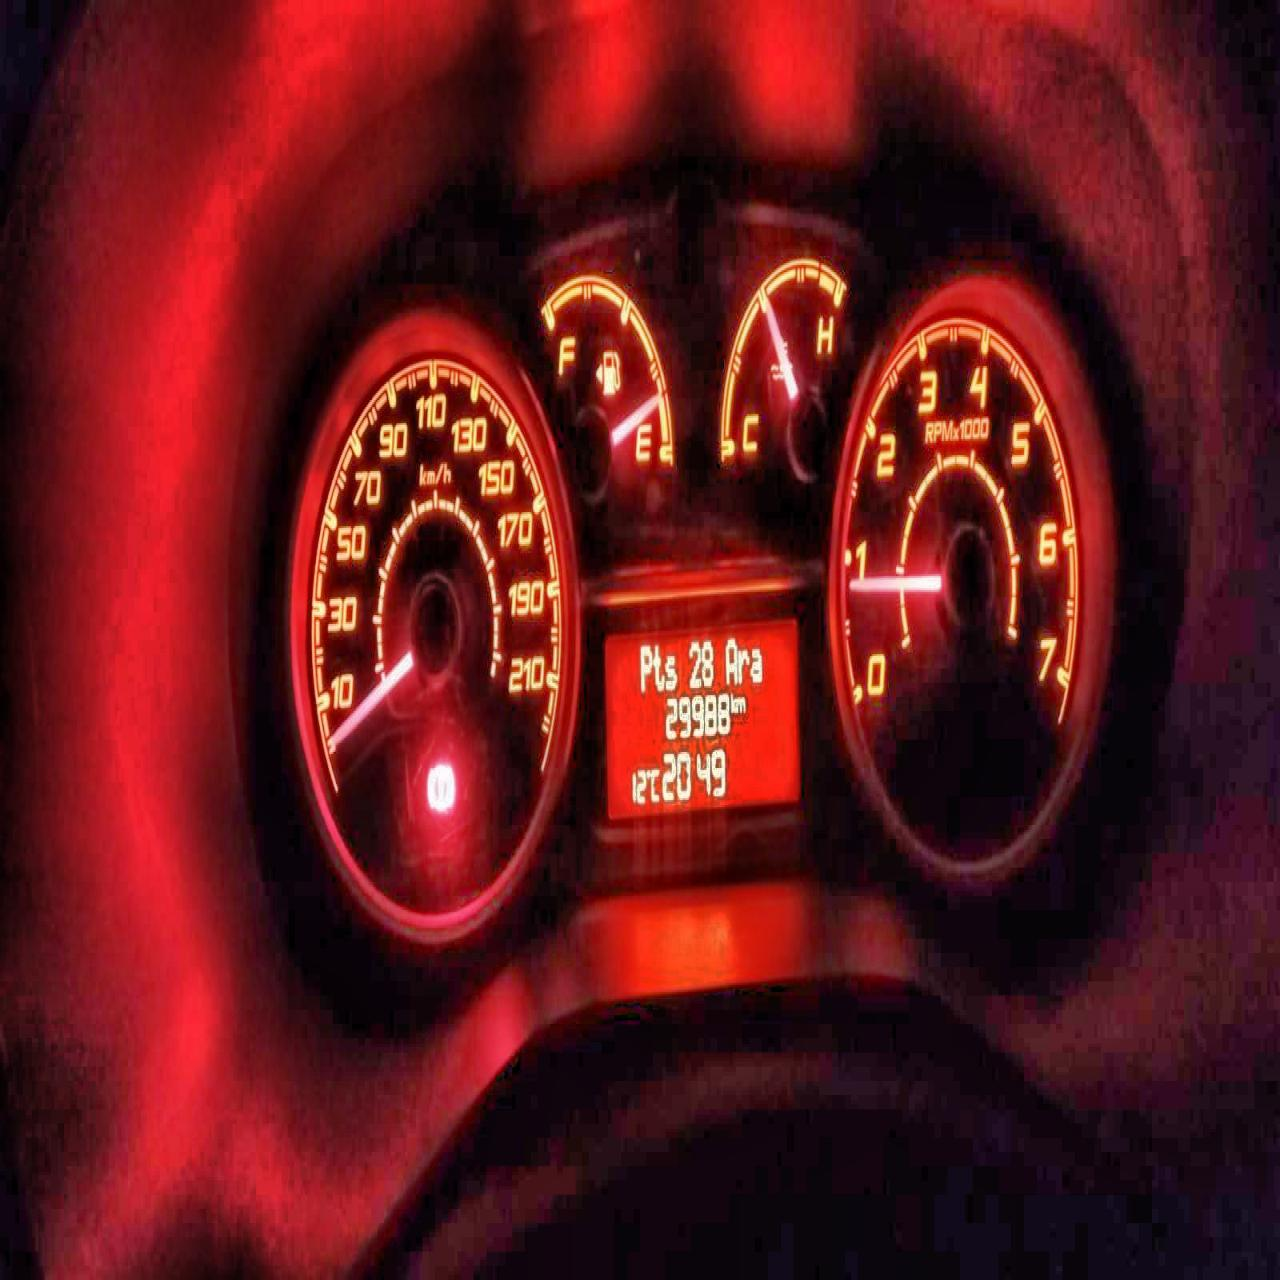0: (675, 748, 690, 799)
1: (631, 767, 635, 809)
4: (694, 749, 710, 795)
7: (662, 747, 675, 802), (687, 636, 701, 685), (665, 697, 678, 738), (636, 767, 645, 804)
8: (701, 635, 714, 686), (716, 688, 729, 736), (704, 692, 717, 736)
9: (712, 747, 724, 795), (678, 693, 690, 737), (692, 692, 703, 734)
X: (652, 641, 665, 693), (724, 634, 737, 685), (639, 644, 652, 694), (663, 651, 679, 689), (750, 645, 763, 682), (737, 647, 750, 682), (649, 764, 660, 799), (736, 693, 745, 713), (729, 690, 736, 713)
odometer: (601, 622, 805, 816)
